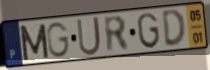D: (161, 8, 188, 49)
G: (45, 21, 72, 59), (136, 11, 162, 50)
M: (18, 23, 51, 63)
R: (102, 14, 131, 55)
U: (75, 15, 103, 58)
